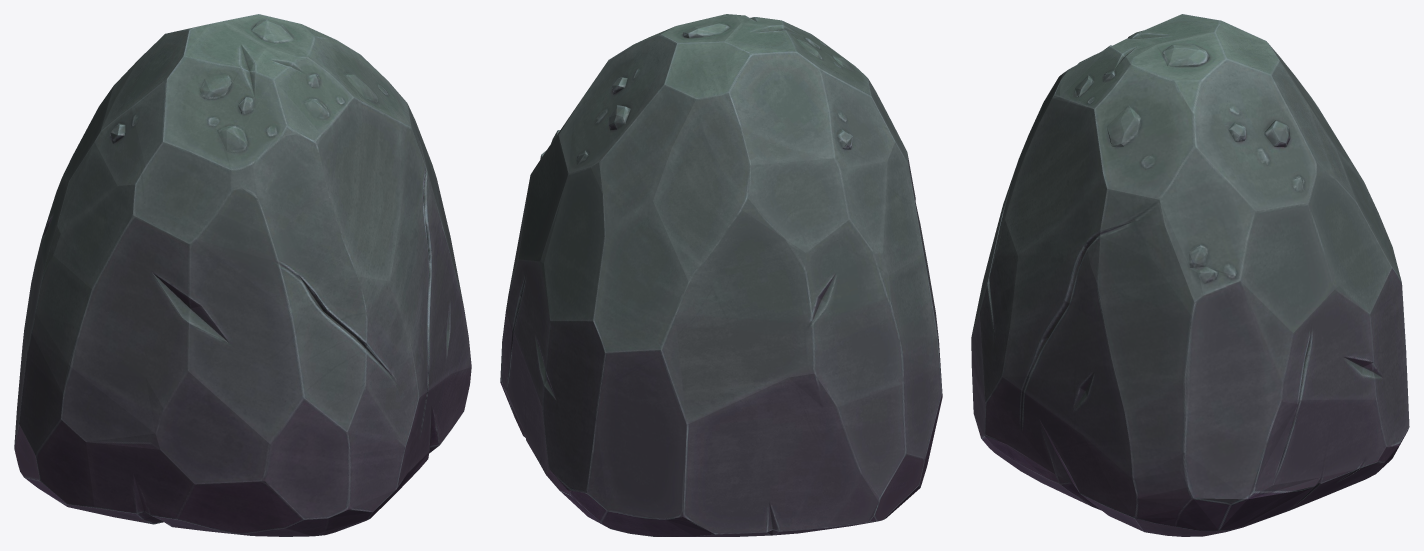
File: rock_1.glb
3 renders of one model, left to right at view 1: azimuth 30°, elevation 25°; view 2: azimuth 150°, elevation 25°; view 3: azimuth 270°, elevation 25°, orthographic. The views are drawn at different scales.
Parts seen in each view (by area): view 1: Group34070; view 2: Group34070; view 3: Group34070.
Boxes of the visible parts, x1,y1,x2,y2 form: Group34070: (14, 14, 471, 536); Group34070: (500, 14, 942, 536); Group34070: (971, 14, 1409, 536).
Bounding box in the file's own units: 2 × 2 × 1.88.
1 material, 1 textured.
